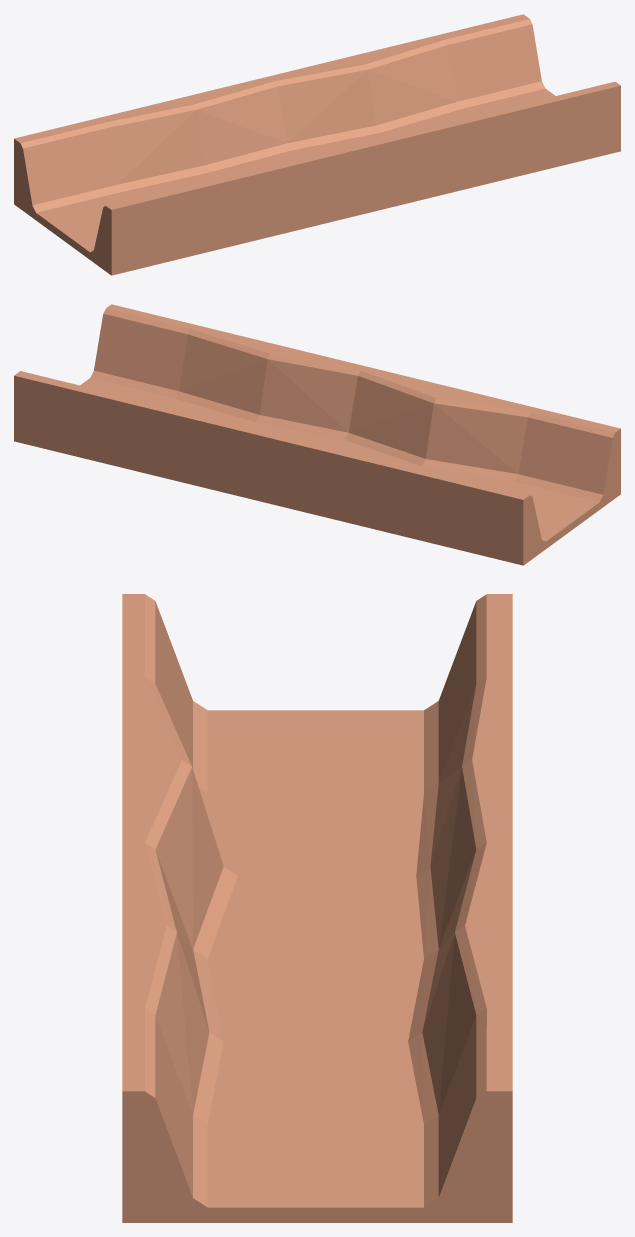
The model's file is Canyon01.fbx.
The picture shows the model from 3 angles, top to bottom: view 1: azimuth 30°, elevation 25°; view 2: azimuth 150°, elevation 25°; view 3: azimuth 270°, elevation 25°; orthographic projection. The views are drawn at different scales.
Parts seen in each view (by area): view 1: Canyon01.001; view 2: Canyon01.001; view 3: Canyon01.001.
Boxes of the visible parts, <box> form: Canyon01.001: <box>14,14,620,275</box>; Canyon01.001: <box>14,304,620,565</box>; Canyon01.001: <box>122,594,512,1222</box>.
Bounding box in the file's own units: 21331 × 2630 × 7070.
